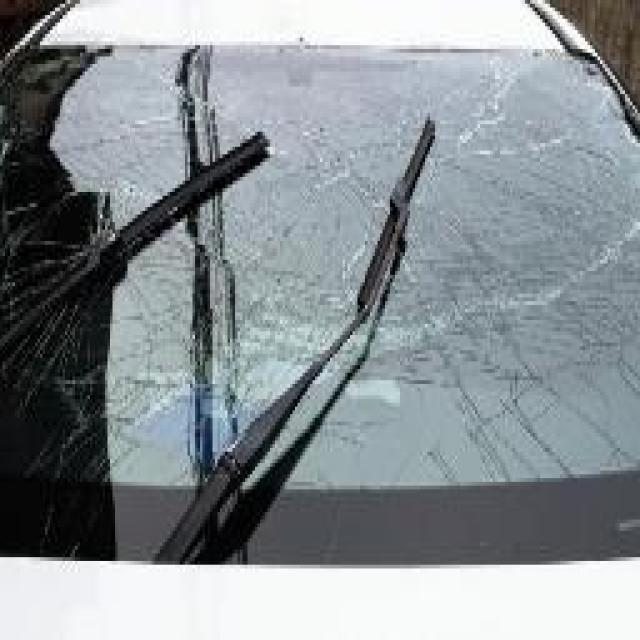Windshield: (2, 41, 635, 508)
